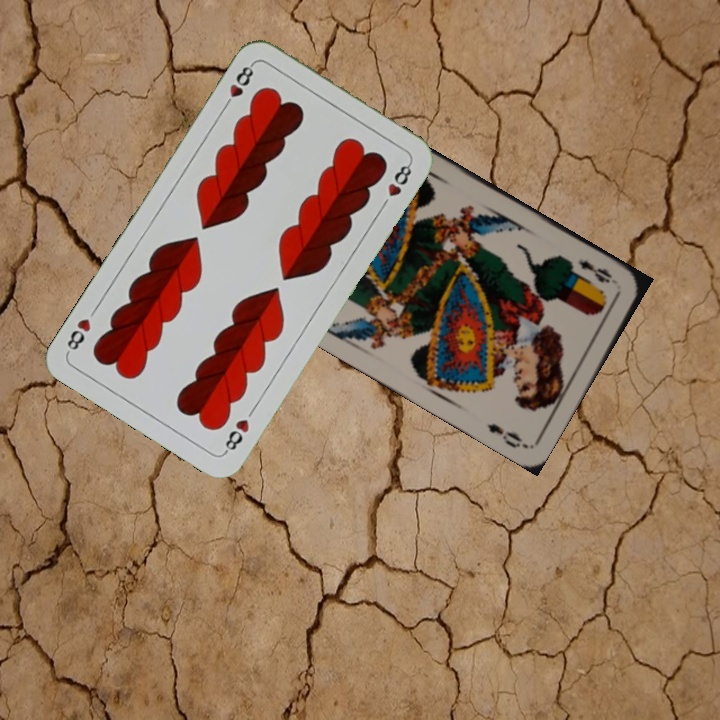EO: (573, 256, 615, 286)
H8: (219, 59, 257, 112), (220, 415, 252, 456)
